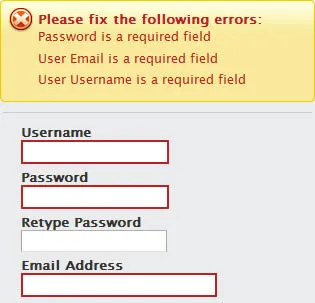error_field: (20, 273, 218, 298), (20, 139, 170, 165), (21, 184, 170, 210)
error_message: (37, 13, 261, 86)
